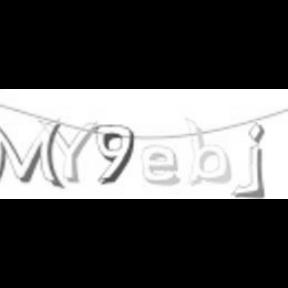9: (94, 123, 134, 187)
M: (1, 116, 62, 190)
Y: (38, 116, 97, 184)
b: (182, 115, 232, 189)
e: (139, 143, 181, 187)
j: (231, 122, 268, 200)
